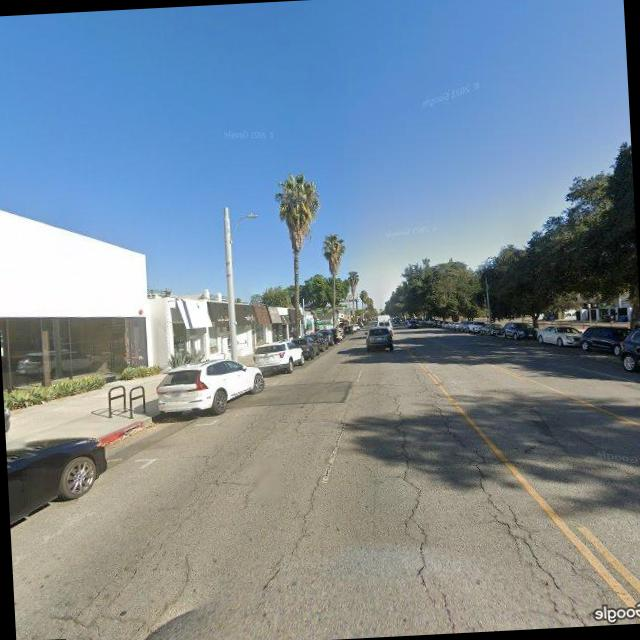pothole: (436, 393, 586, 633), (256, 399, 370, 603), (384, 364, 444, 634)
